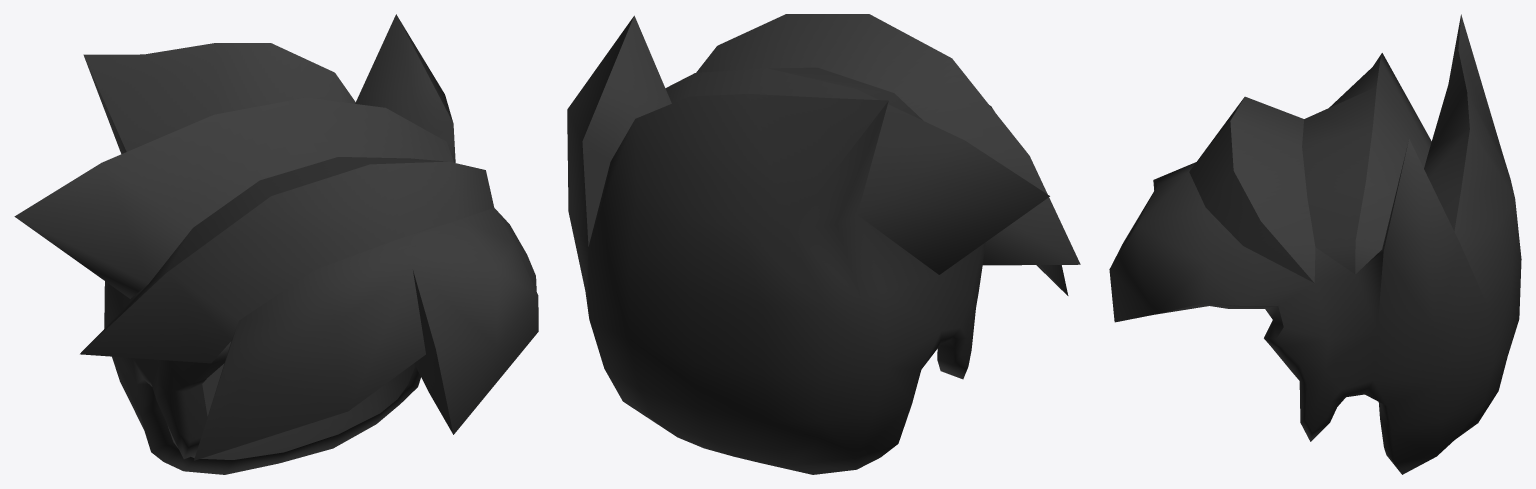
File: Hair_Black_14.fbx
The picture shows the model from 3 angles, left to right: view 1: azimuth 30°, elevation 25°; view 2: azimuth 150°, elevation 25°; view 3: azimuth 270°, elevation 25°; orthographic projection. The views are drawn at different scales.
Parts seen in each view (by area): view 1: Hair_Black_14; view 2: Hair_Black_14; view 3: Hair_Black_14.
Boxes of the visible parts, x1,y1,x2,y2 form: Hair_Black_14: (14,14,538,474); Hair_Black_14: (567,14,1080,474); Hair_Black_14: (1109,14,1521,474).
Bounding box in the file's own units: 72.54 × 64.55 × 65.91.
